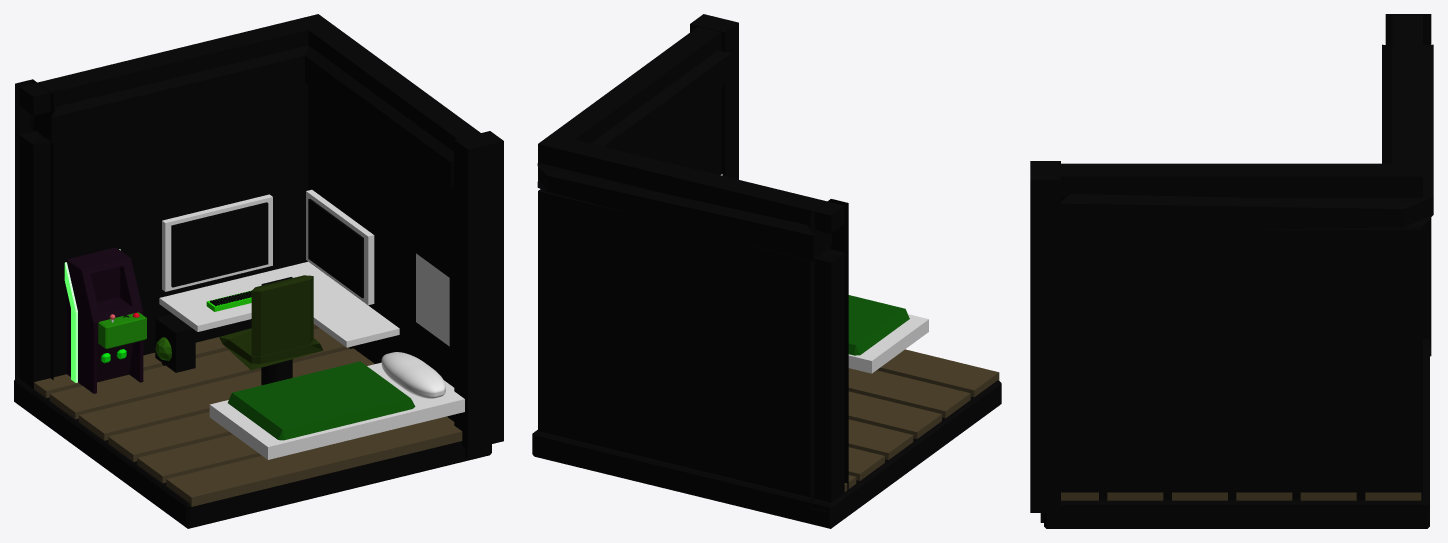
File: room.glb
3 renders of one model, left to right at view 1: azimuth 30°, elevation 25°; view 2: azimuth 150°, elevation 25°; view 3: azimuth 270°, elevation 25°, orthographic. The views are drawn at different scales.
Visible parts, largest first — view 1: Cube.007, Plane.001, Plane, Plane.003, Cube.011, Cube.002, Cube.023, Cube, Plane.002, Cube.025, Plane.004, Cube.005 (+5 smaller); view 2: Cube.007, Plane, Plane.001, Plane.003, Plane.002; view 3: Cube.007, Plane, Plane.001.
Part boxes in pixels (bbox=[...]): Cube.007: bbox=[15, 14, 503, 458]; Plane.001: bbox=[34, 324, 462, 506]; Plane: bbox=[14, 377, 491, 528]; Plane.003: bbox=[228, 361, 415, 440]; Cube.011: bbox=[66, 247, 143, 393]; Cube.002: bbox=[159, 261, 399, 347]; Cube.023: bbox=[171, 202, 268, 287]; Cube: bbox=[219, 275, 323, 370]; Plane.002: bbox=[209, 362, 464, 459]; Cube.025: bbox=[308, 199, 363, 298]; Plane.004: bbox=[416, 253, 449, 346]; Cube.005: bbox=[162, 194, 272, 291]; Cube.007: bbox=[537, 14, 848, 512]; Plane: bbox=[532, 380, 1001, 528]; Plane.001: bbox=[844, 349, 999, 491]; Plane.003: bbox=[848, 295, 909, 355]; Plane.002: bbox=[848, 314, 928, 373]; Cube.007: bbox=[1030, 14, 1433, 522]; Plane: bbox=[1044, 338, 1429, 528]; Plane.001: bbox=[1061, 492, 1421, 500].
Size of the model in its own units: 2.08 by 2.03 by 2.11.
